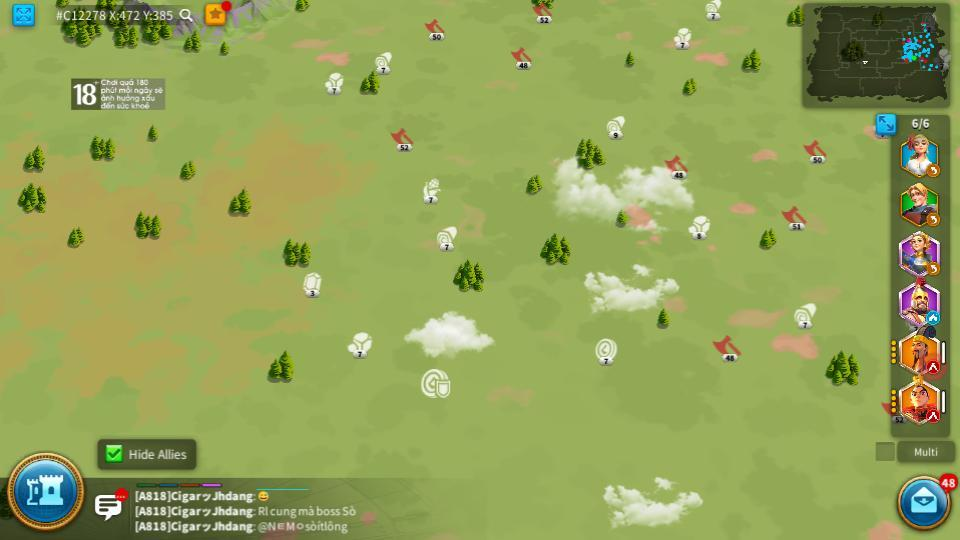gem-z-out: (592, 337, 621, 364), (301, 272, 324, 295)
march_attacking: (925, 410, 941, 421), (926, 362, 940, 373)
march_idle: (927, 312, 940, 324)
march_returning: (926, 165, 941, 177), (926, 262, 940, 274), (927, 216, 941, 226)
